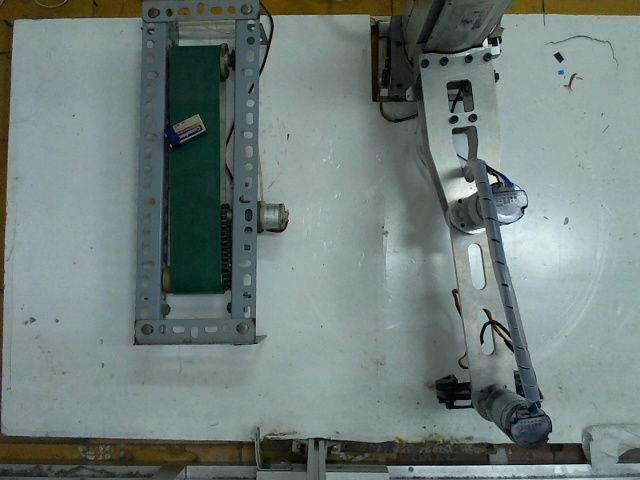battery: (164, 113, 209, 146)
